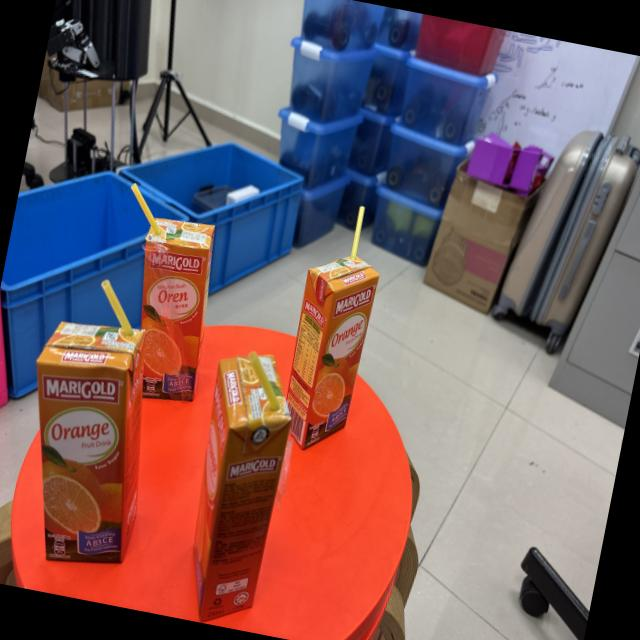drink_carton: (0, 258, 188, 586), (149, 314, 321, 635), (90, 165, 248, 418), (268, 185, 406, 469)
